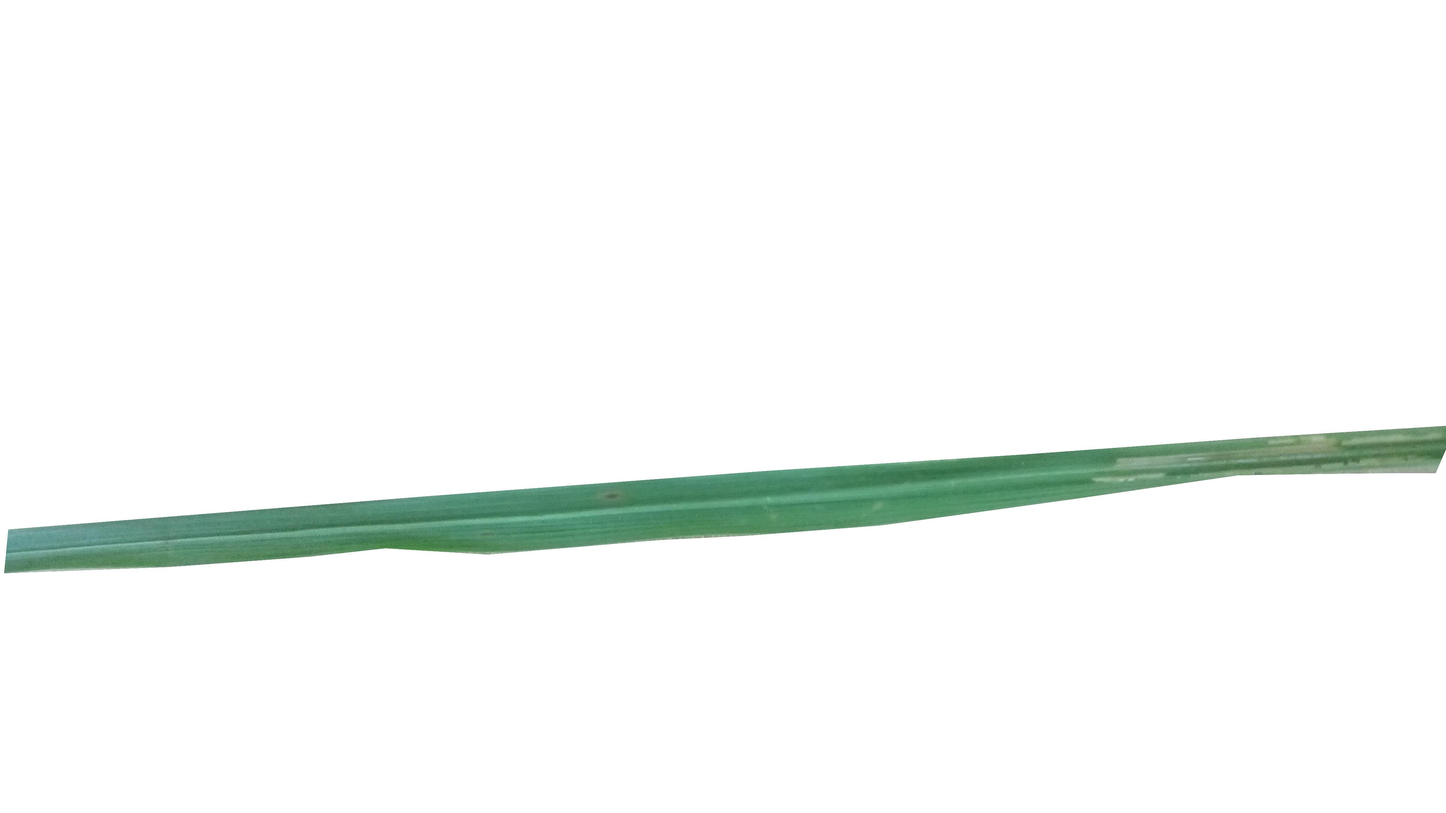Brown spot: (605, 483, 629, 516)
